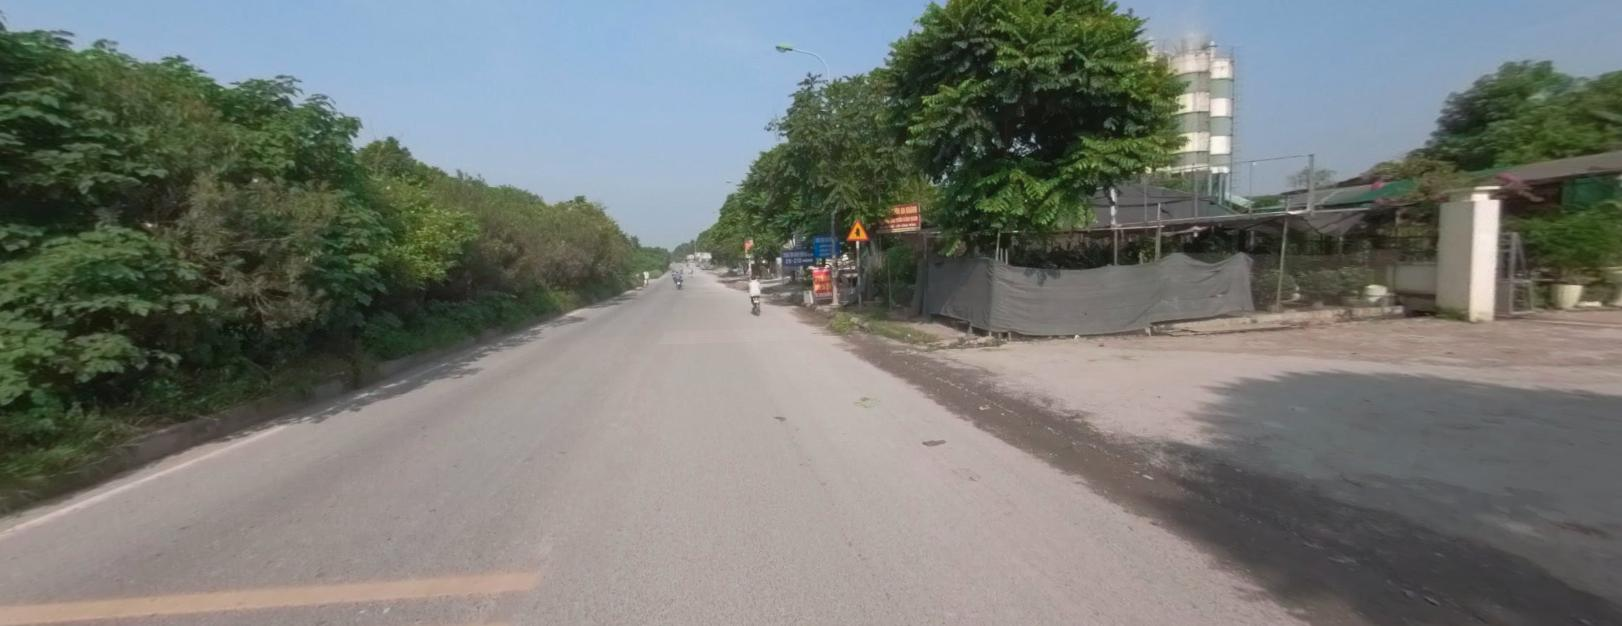Nguy hiem: (845, 218, 869, 238)
